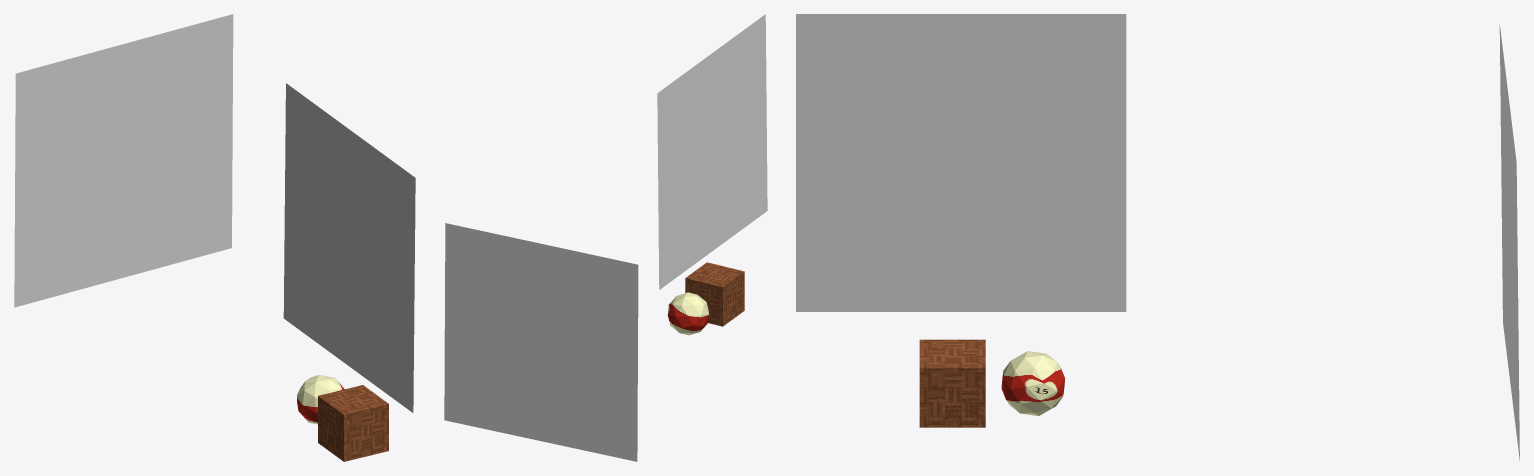
The picture shows the model from 3 angles, left to right: view 1: azimuth 30°, elevation 25°; view 2: azimuth 150°, elevation 25°; view 3: azimuth 270°, elevation 25°; orthographic projection. The views are drawn at different scales.
Visible parts, largest first — view 1: portal[1], portal[0], Cube.001, Icosphere; view 2: portal[1], portal[0], Cube.001, Icosphere; view 3: portal[0], Cube.001, portal[1], Icosphere.
Boxes of the visible parts, x1=… form: portal[1]: x1=14, y1=14, x2=233, y2=307; portal[0]: x1=283, y1=83, x2=415, y2=412; Cube.001: x1=318, y1=385, x2=388, y2=461; Icosphere: x1=297, y1=374, x2=344, y2=424; portal[1]: x1=444, y1=223, x2=638, y2=461; portal[0]: x1=657, y1=14, x2=767, y2=289; Cube.001: x1=685, y1=262, x2=744, y2=326; Icosphere: x1=667, y1=292, x2=709, y2=335; portal[0]: x1=796, y1=14, x2=1126, y2=311; Cube.001: x1=919, y1=339, x2=985, y2=427; portal[1]: x1=1499, y1=24, x2=1519, y2=460; Icosphere: x1=1001, y1=351, x2=1065, y2=415.
Size of the model in its own units: 9.97 by 13.33 by 21.87.
4 materials, 2 textured.
